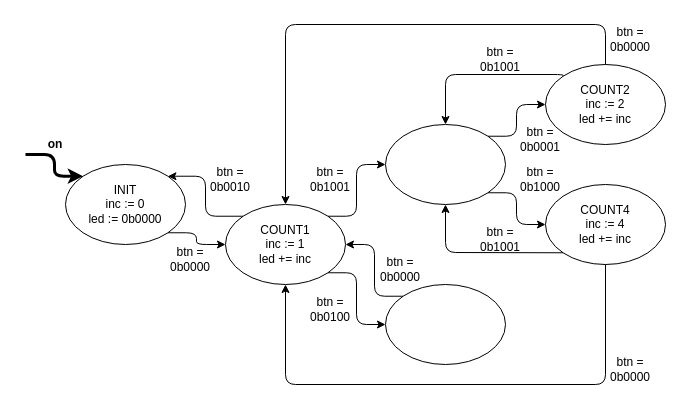
Image size: 683x410. Some labels were removed from this diagram. Each missing label, with the box of its shape:
SET inc := 0 led := 0b1111: (384, 284, 506, 364)
SUSPEND inc := 0 led += inc: (384, 124, 506, 204)
